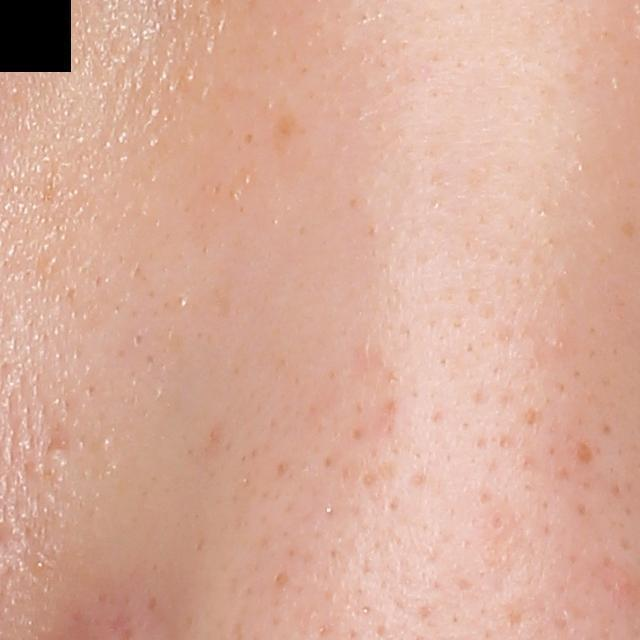melasma: (266, 113, 301, 155)
